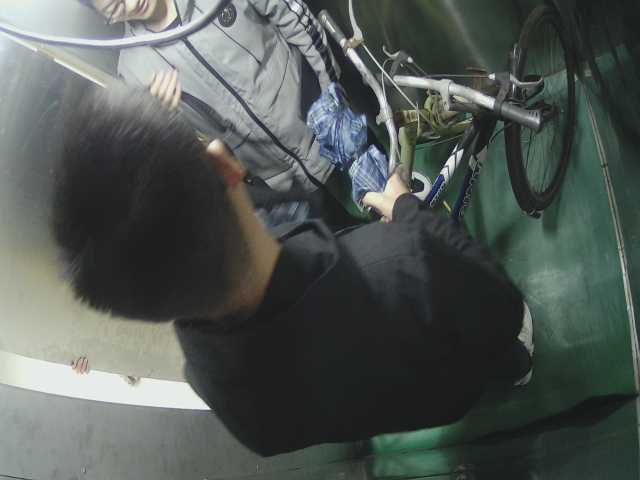bicycle: (309, 4, 628, 246)
person: (31, 76, 540, 414), (71, 1, 335, 142)
